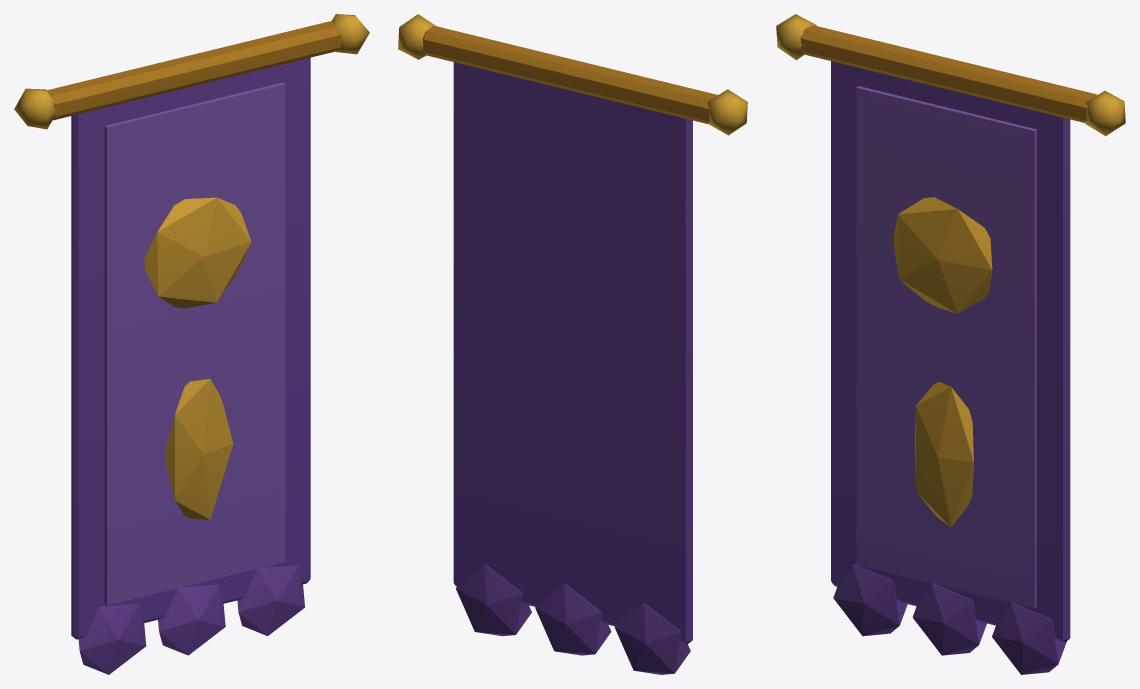
File: banner_hang.glb
3 views of the same model, side by side, from view 1: azimuth 30°, elevation 25°; view 2: azimuth 150°, elevation 25°; view 3: azimuth 330°, elevation 25° (orthographic).
Visible parts, largest first — view 1: banner_hang; view 2: banner_hang; view 3: banner_hang.
Boxes of the visible parts, bbox=[...] form: banner_hang: bbox=[14, 14, 369, 674]; banner_hang: bbox=[398, 14, 747, 674]; banner_hang: bbox=[776, 14, 1125, 674].
Size of the model in its own units: 1.74 by 2.89 by 0.2089.
